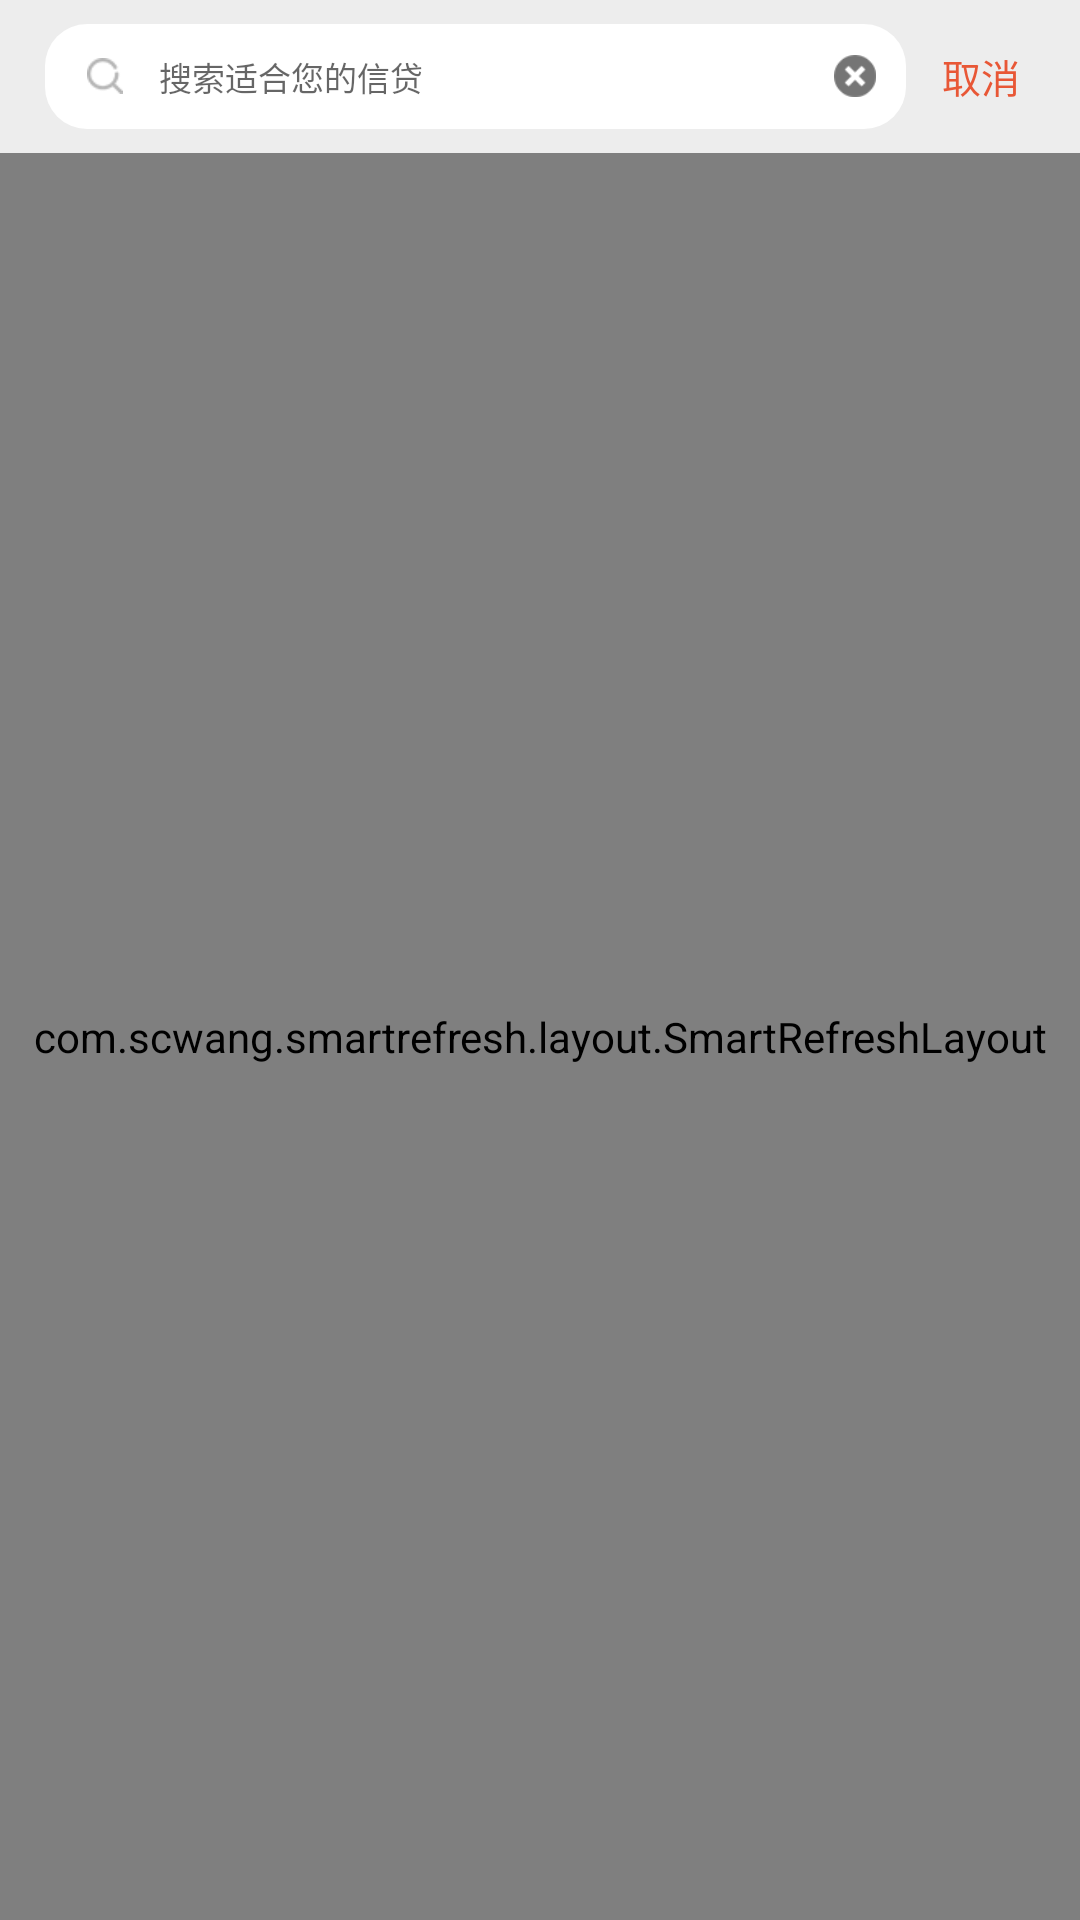

Where icons sit on this 1080*1920 app screen, as (x1, y1, x2, y2):
fangdajing: (87, 58, 123, 94)
release delete but: (834, 55, 876, 97)
